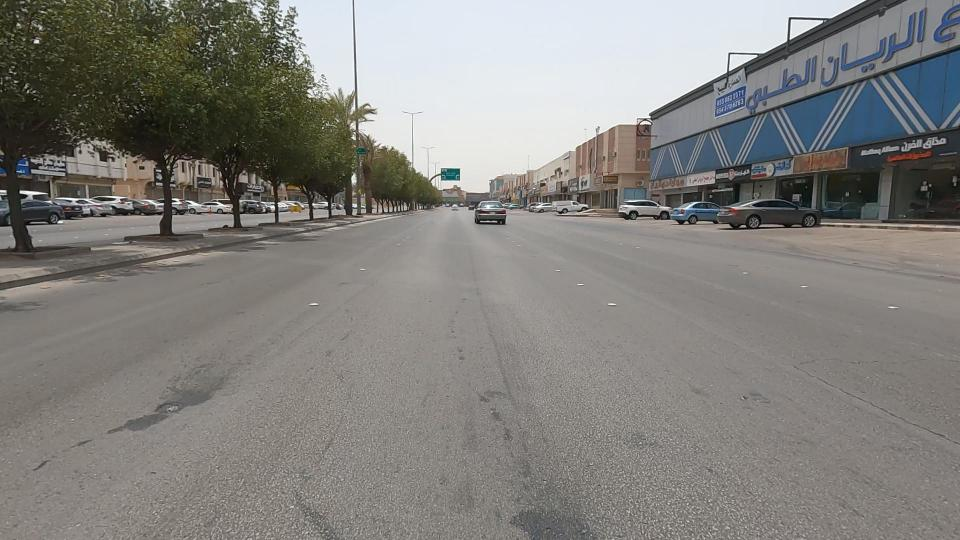BAD_BILLBOARD: (768, 126, 866, 197)
